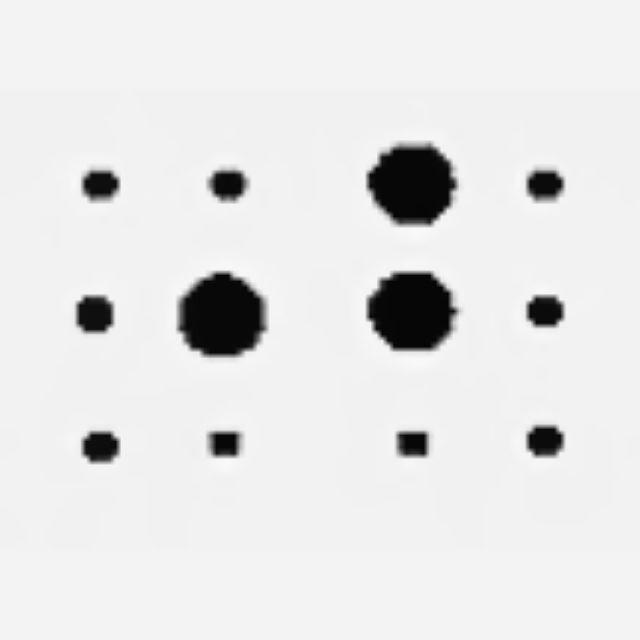binata: (367, 140, 591, 495)
dot_5: (43, 139, 266, 494)
